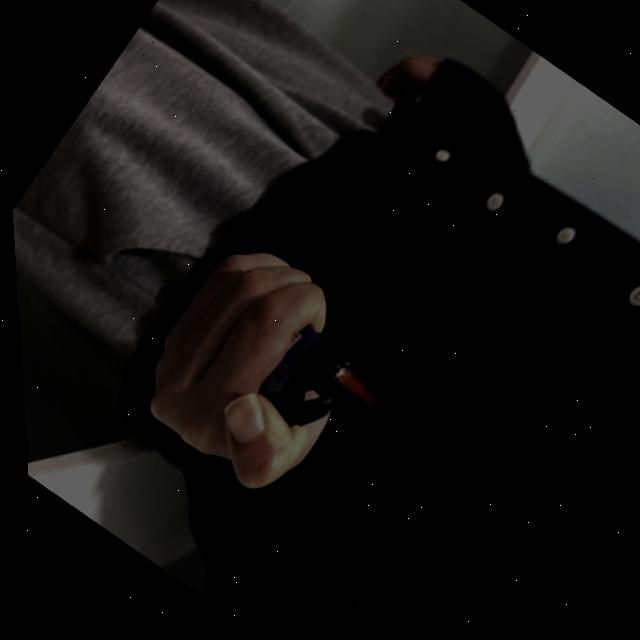Fire: (321, 361, 400, 433)
